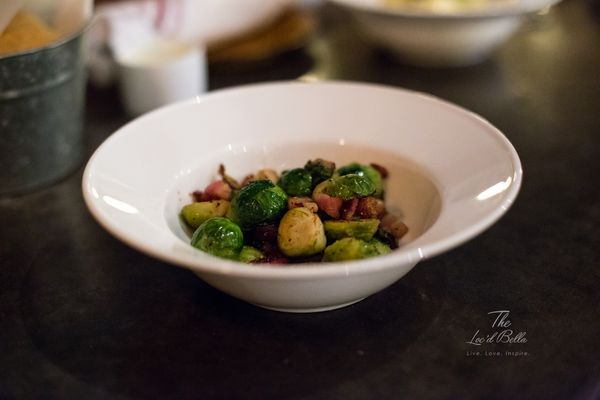curry: (322, 218, 392, 261), (229, 179, 289, 229), (319, 161, 384, 199), (190, 216, 244, 260), (279, 157, 335, 197)
sushi: (102, 79, 523, 314), (321, 1, 550, 70)
